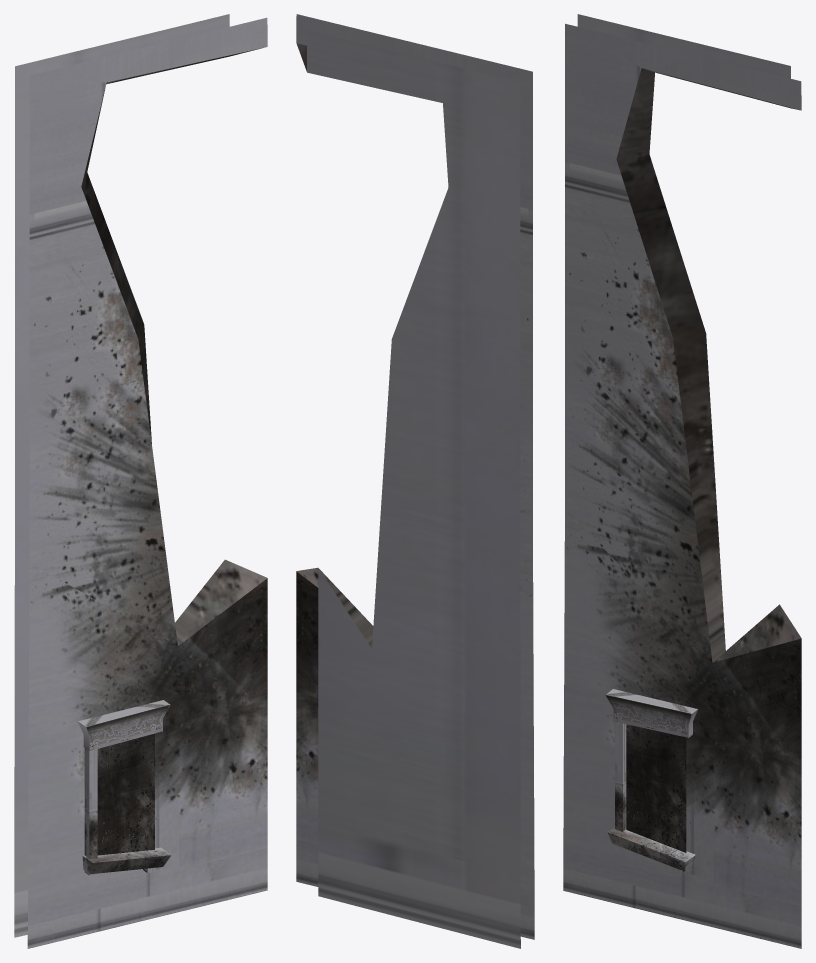
File: frontBruch.obj
The picture shows the model from 3 angles, left to right: view 1: azimuth 30°, elevation 25°; view 2: azimuth 150°, elevation 25°; view 3: azimuth 330°, elevation 25°; orthographic projection.
Parts seen in each view (by area): view 1: polySurface187; view 2: polySurface187; view 3: polySurface187.
Boxes of the visible parts, x1=… form: polySurface187: x1=14, y1=14, x2=267, y2=948; polySurface187: x1=296, y1=14, x2=534, y2=948; polySurface187: x1=563, y1=14, x2=801, y2=948.
Bounding box in the file's own units: 1.05 × 3.65 × 0.1825.
Materials: 1 (1 with a texture image).
